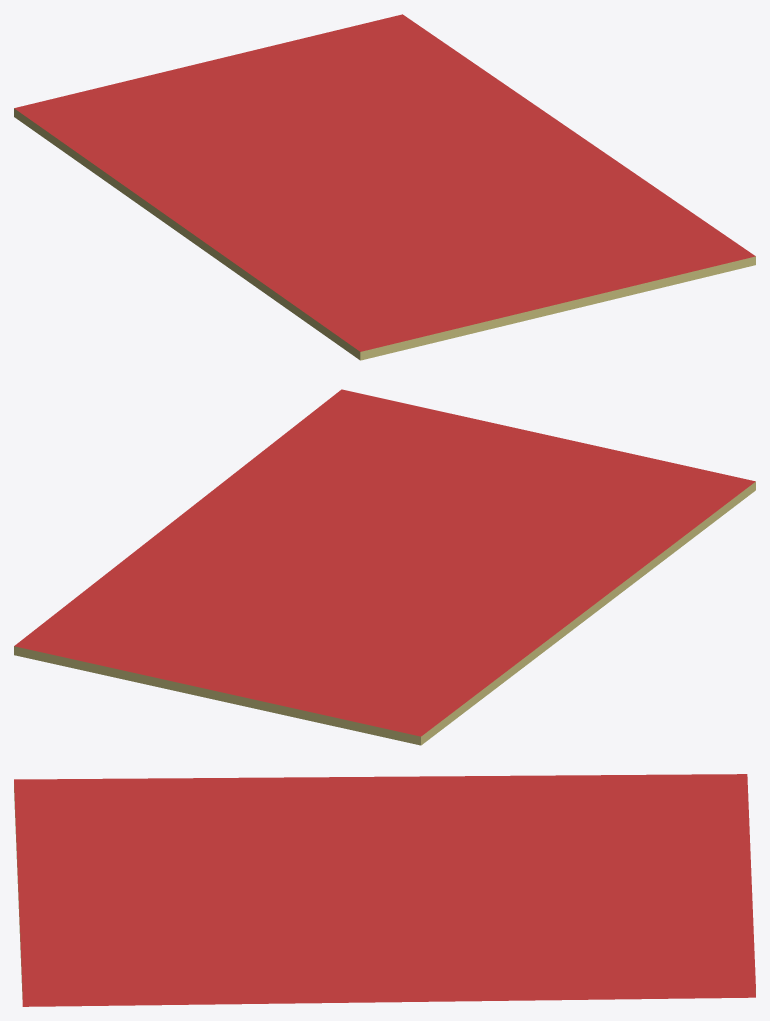
3 renders of one model, top to bottom at view 1: azimuth 30°, elevation 25°; view 2: azimuth 150°, elevation 25°; view 3: azimuth 270°, elevation 25°, orthographic. The views are drawn at different scales.
Bounding box in the file's own units: 4.92 × 7.07 × 0.156.
